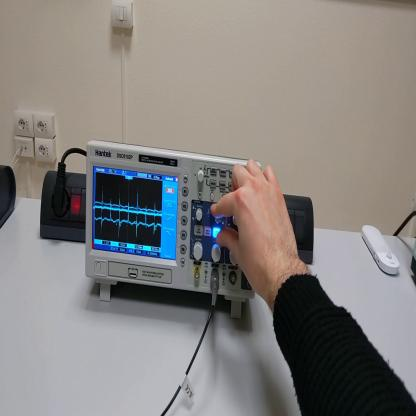hand: (208, 156, 301, 302)
oscilloscope: (86, 140, 262, 317)
socket: (39, 170, 85, 245), (1, 164, 18, 226)
welder station: (411, 239, 416, 285)
